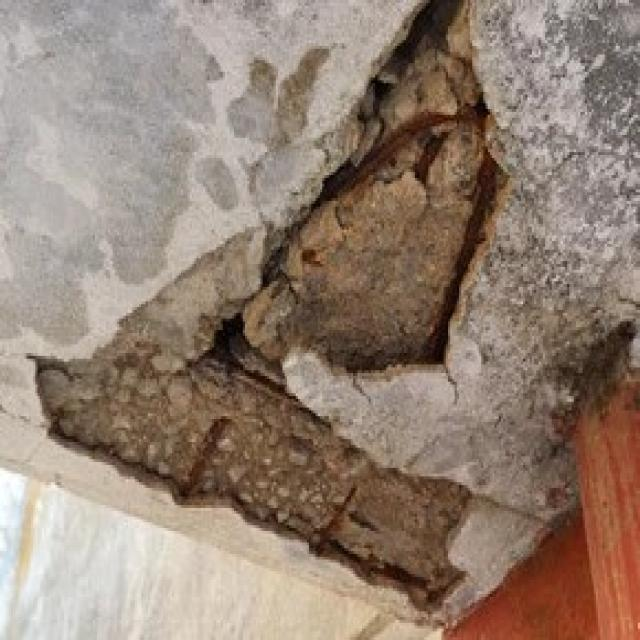Rebar: (29, 0, 512, 617)
